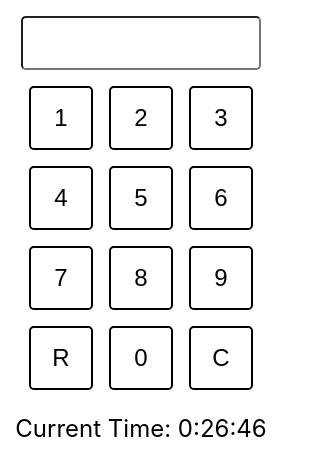
Test: check display on button click
Click the button "1": (61, 118) 29,86 -> 93,150
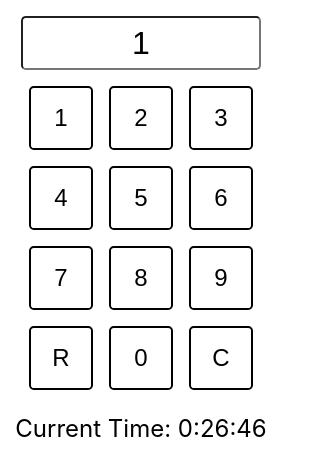
expect the field holds "1": met, box 21,16 -> 261,70
